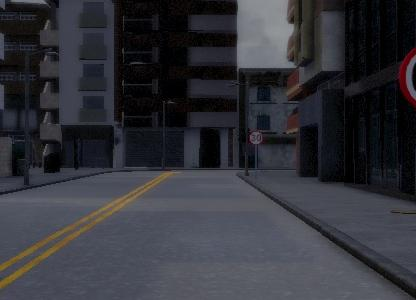Speed_60: (397, 32, 416, 115)
